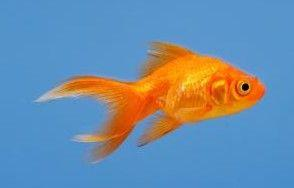Gold Fish: (34, 38, 268, 164)
